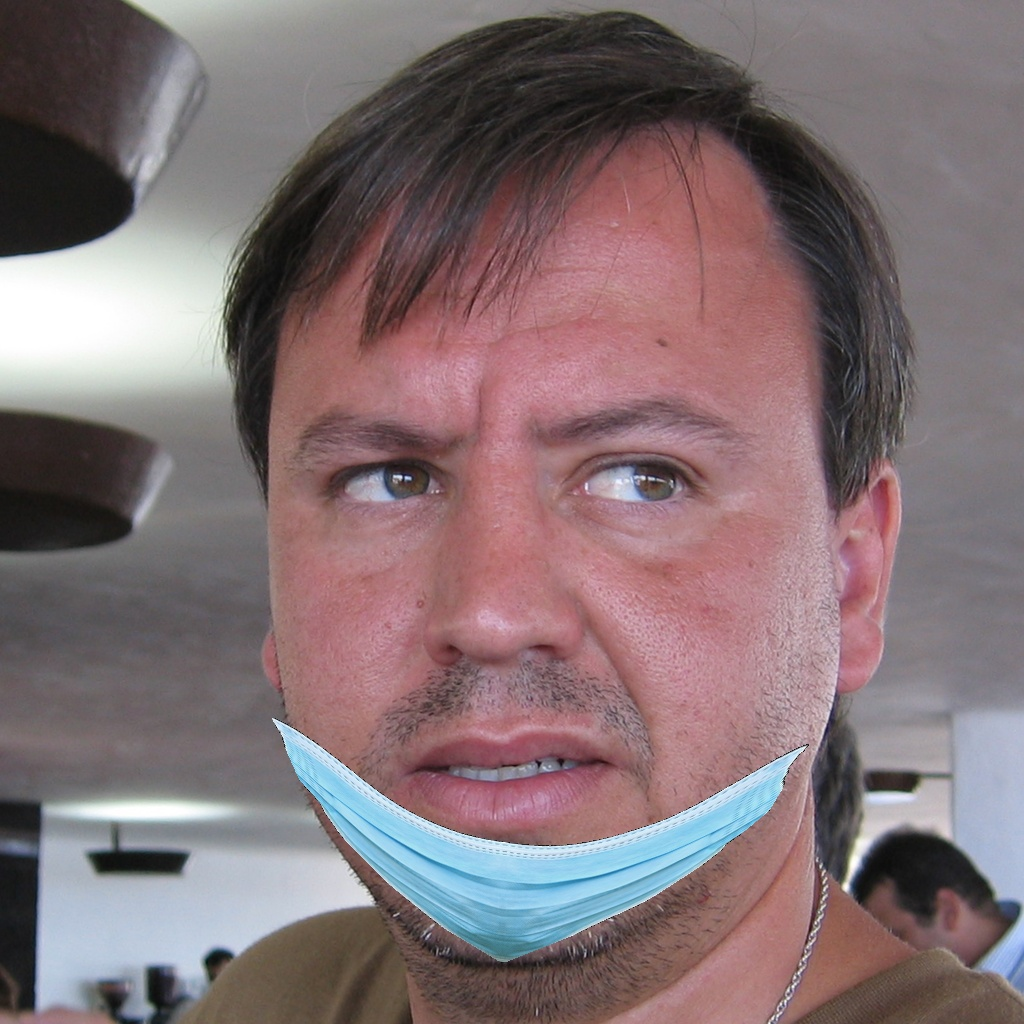mascarilla_mal_puesta: (252, 400, 839, 980)
